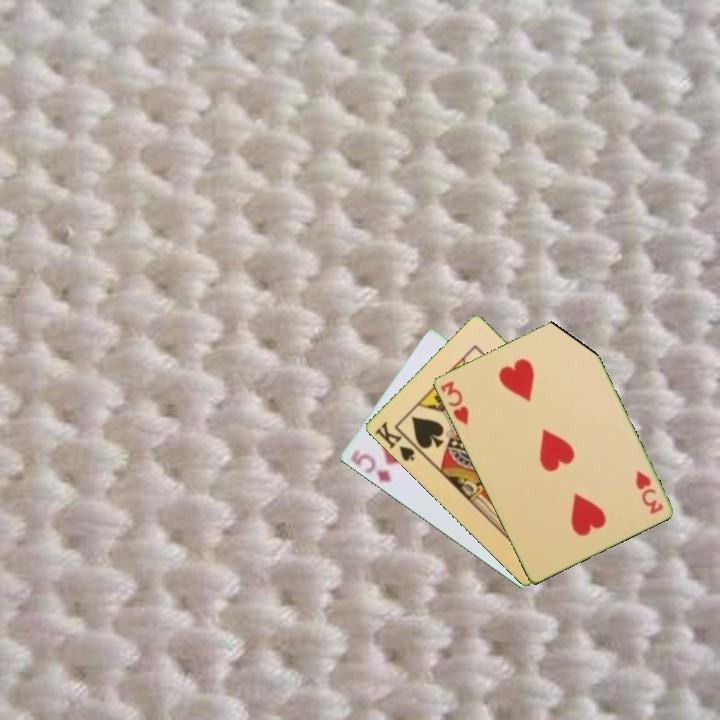3h: (437, 377, 471, 428), (632, 467, 666, 517)
5d: (346, 445, 395, 485)
Ks: (371, 418, 417, 464)
